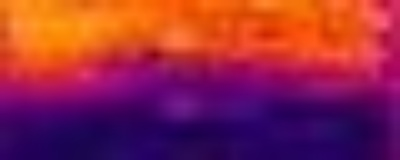Shadow: (1, 56, 400, 160)
